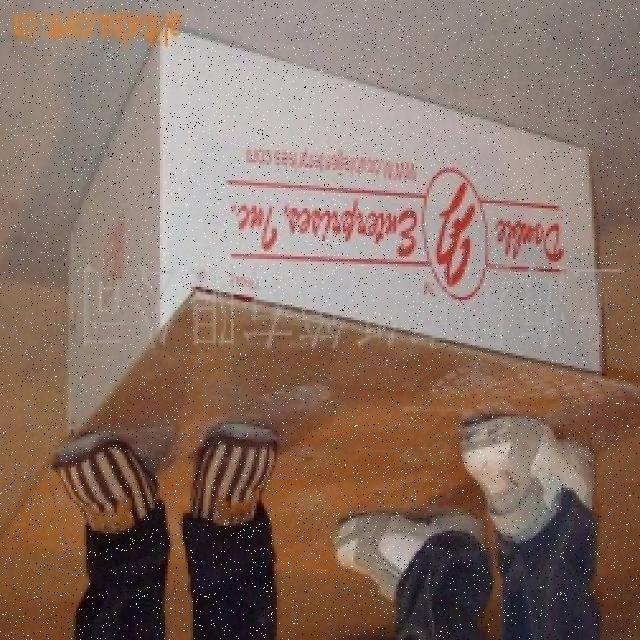box: (26, 31, 626, 512)
